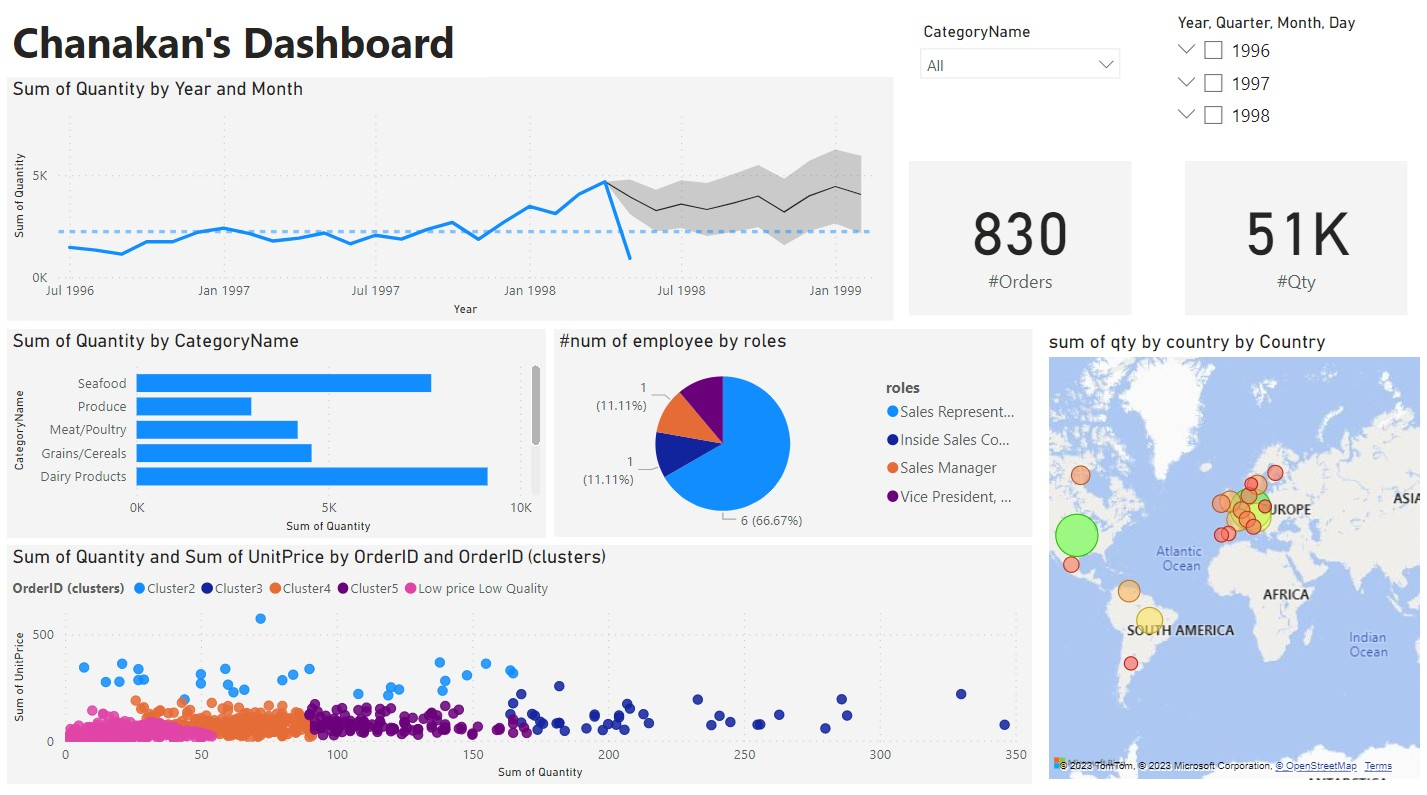

Layout of this report page (visuals, bound fields, positions):
{"tool":"powerbi","page":{"name":"Page 2","canvas":[1280,720],"ordinal":1},"visuals":[{"type":"scatterChart","fields":{"X":["Orders_Details.Quantity"],"Y":["Orders_Details.UnitPrice"],"Category":["Orders_Details.OrderID"],"Series":["Orders_Details.OrderID (clusters)"]},"box":[10.7,493.1,917.2,214],"z":0},{"type":"map","fields":{"Category":["Customers.Country"],"Size":["Orders_Details.Quantity"]},"box":[937.5,301,342.3,406.7],"z":1000},{"type":"card","fields":{"Values":["Orders_Details.OrderID"]},"box":[817.3,149,199,138.5],"z":2000},{"type":"card","fields":{"Values":["Orders_Details.Quantity"]},"box":[1064.4,149,199,138.5],"z":3000},{"type":"pieChart","fields":{"Y":["Employees.EmployeeID"],"Category":["Employees.Title"]},"box":[500,300,427.7,186.2],"z":4000},{"type":"barChart","fields":{"Y":["Orders_Details.Quantity"],"Category":["Categories.CategoryName","Product.ProductName"]},"box":[10.7,299.6,482.4,186.7],"z":5000},{"type":"textbox","box":[10.6,0,682.4,149.4],"z":6000},{"type":"slicer","fields":{"Values":["Orders.OrderDate.Variation.Date Hierarchy.Year","Orders.OrderDate.Variation.Date Hierarchy.Quarter","Orders.OrderDate.Variation.Date Hierarchy.Month","Orders.OrderDate.Variation.Date Hierarchy.Day"]},"box":[1044.2,12.5,219.2,117.3],"z":7000},{"type":"slicer","fields":{"Values":["Categories.CategoryName"]},"box":[817.3,20.2,199,74],"z":8000},{"type":"lineChart","fields":{"Category":["Orders.OrderDate.Variation.Date Hierarchy.Year","Orders.OrderDate.Variation.Date Hierarchy.Month","Orders.OrderDate.Variation.Date Hierarchy.Day"],"Y":["Orders_Details.Quantity"]},"box":[10.6,74.5,792.6,218.1],"z":9000},{"type":"textbox","box":[10.6,12.5,426.9,61.5],"z":10000}]}

Visuals, with their boxes in screenshot pixels (x1, y1, x2, y2), scaled from the page's 1280x720 canvas onto the 1427x795 screenshot:
scatterChart - Orders_Details.Quantity x Orders_Details.UnitPrice: [x1=12, y1=544, x2=1034, y2=781]
map - Customers.Country x Orders_Details.Quantity: [x1=1045, y1=332, x2=1426, y2=781]
card - Orders_Details.OrderID: [x1=911, y1=165, x2=1133, y2=317]
card - Orders_Details.Quantity: [x1=1187, y1=165, x2=1408, y2=317]
pieChart - Employees.EmployeeID x Employees.Title: [x1=557, y1=331, x2=1034, y2=537]
barChart - Orders_Details.Quantity x Categories.CategoryName: [x1=12, y1=331, x2=550, y2=537]
textbox: [x1=12, y1=0, x2=773, y2=165]
slicer - Orders.OrderDate.Variation.Date Hierarchy.Year x Orders.OrderDate.Variation.Date Hierarchy.Quarter: [x1=1164, y1=14, x2=1408, y2=143]
slicer - Categories.CategoryName: [x1=911, y1=22, x2=1133, y2=104]
lineChart - Orders.OrderDate.Variation.Date Hierarchy.Year x Orders.OrderDate.Variation.Date Hierarchy.Month: [x1=12, y1=82, x2=895, y2=323]
textbox: [x1=12, y1=14, x2=488, y2=82]
